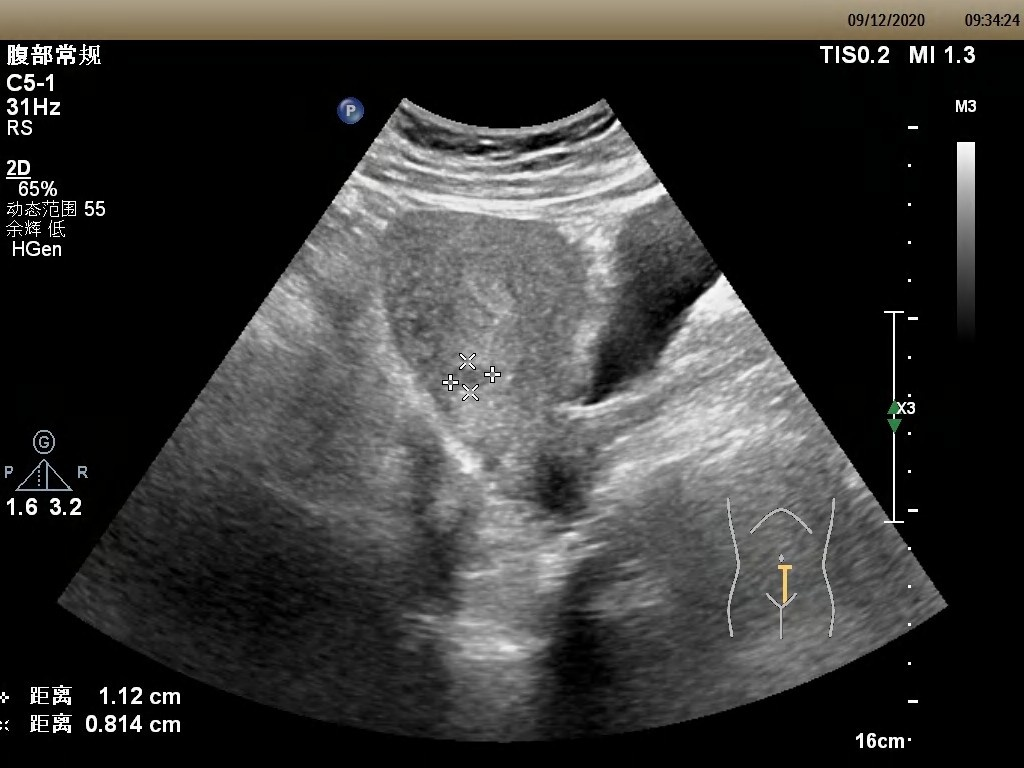肌瘤: (449, 369, 490, 389)
